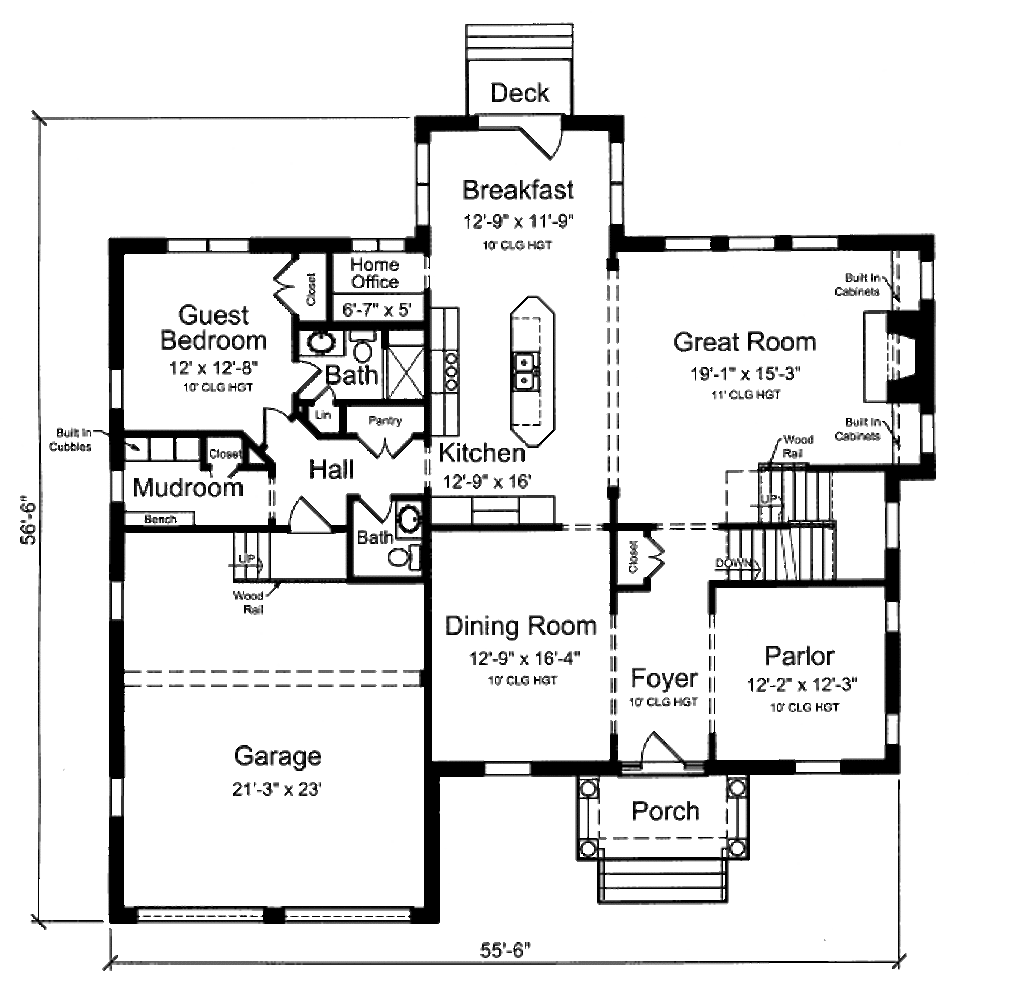door: (267, 257, 307, 326), (356, 425, 413, 463), (249, 403, 297, 447), (633, 729, 688, 767), (287, 493, 331, 533), (279, 357, 321, 396)
kitchen_bar: (506, 296, 560, 452)
large_sink: (377, 541, 427, 570), (340, 329, 375, 370)
small_sink: (389, 494, 424, 540)
stairs: (576, 777, 751, 901), (720, 465, 888, 581), (463, 19, 572, 119)
windows: (653, 230, 849, 255), (155, 228, 251, 261), (595, 138, 629, 225), (411, 134, 436, 233), (102, 575, 137, 631), (469, 757, 542, 782), (785, 753, 843, 777), (877, 596, 902, 643), (102, 365, 125, 411), (105, 772, 126, 821)
